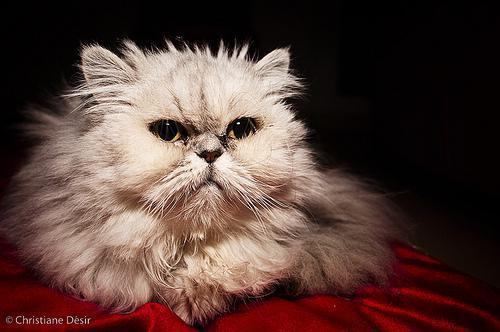cat: (12, 41, 381, 323)
